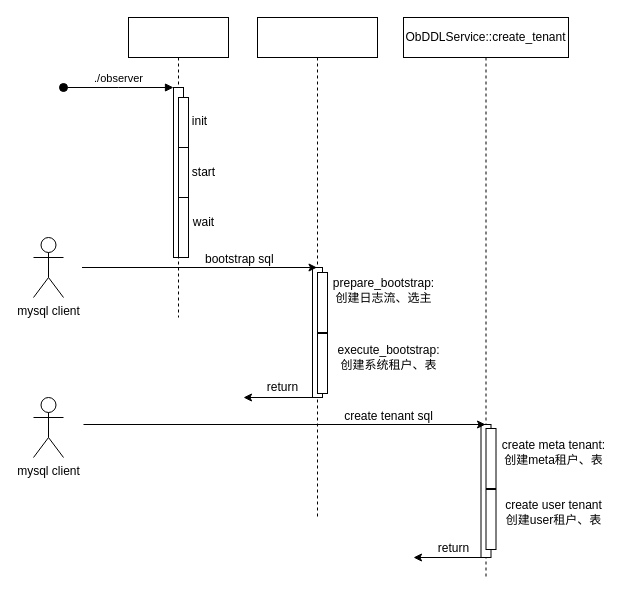
The diagram is 636 pixels wide and 595 high, and some of its shapes have lost their labels. Each missing label, with the box of its shape:
Observer: (128, 16, 228, 318)
ObService::bootstrap: (256, 16, 378, 518)
